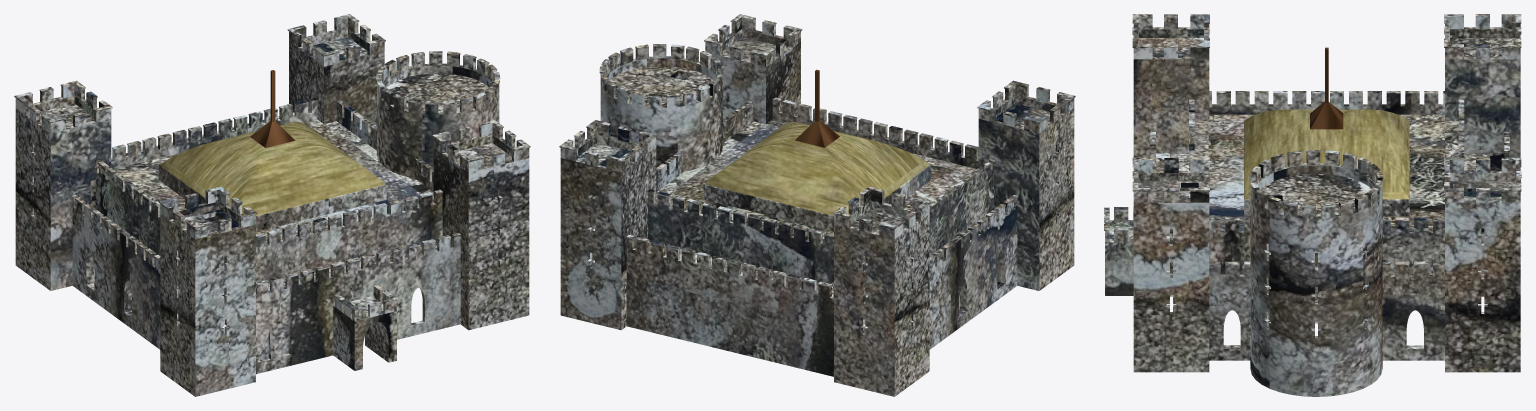
File: castle_fixed_normals.fbx
3 renders of one model, left to right at view 1: azimuth 30°, elevation 25°; view 2: azimuth 150°, elevation 25°; view 3: azimuth 270°, elevation 25°, orthographic. The views are drawn at different scales.
Visible parts, largest first — view 1: Castle; view 2: Castle; view 3: Castle.
Boxes of the visible parts, left/top/right/bottom form: Castle: left=14, top=14, right=530, bottom=396; Castle: left=559, top=14, right=1075, bottom=396; Castle: left=1104, top=14, right=1521, bottom=396.
Size of the model in its own units: 5039 by 2765 by 4428.
